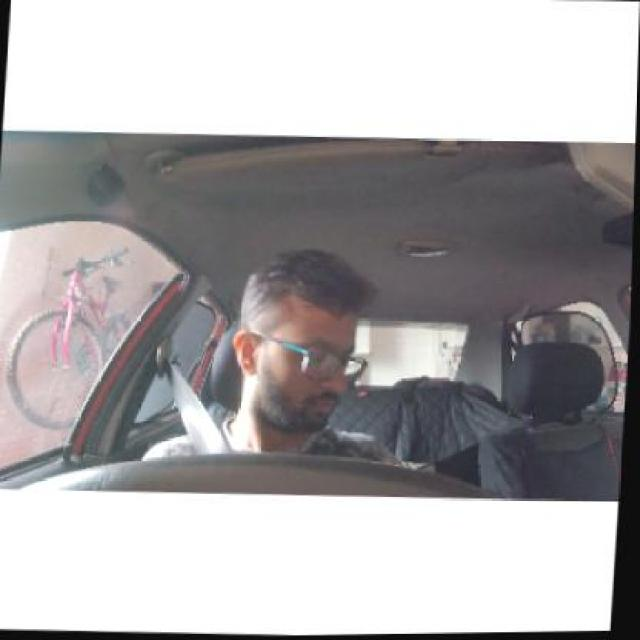drowsy: (235, 255, 354, 434)
